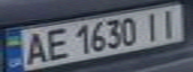0: (118, 15, 142, 45)
1: (69, 21, 93, 55)
3: (103, 17, 124, 50)
6: (87, 19, 109, 52)
A: (18, 29, 51, 66)
E: (39, 26, 72, 62)
I: (154, 7, 184, 38), (139, 10, 166, 40)
